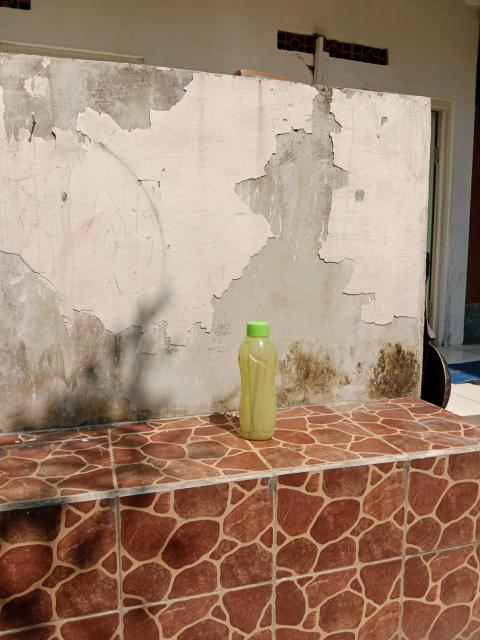botol: (234, 312, 282, 444)
